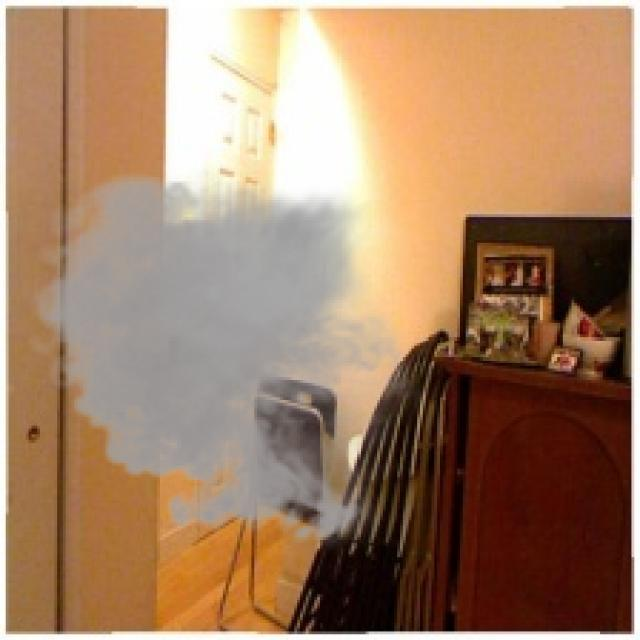Smoke: (20, 160, 426, 554)
